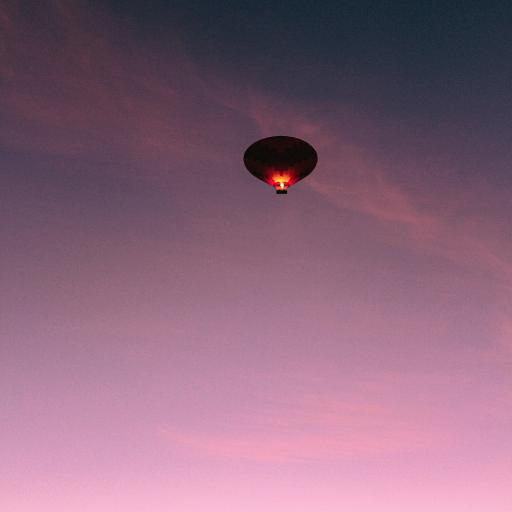hot air ballon: (243, 136, 318, 194)
